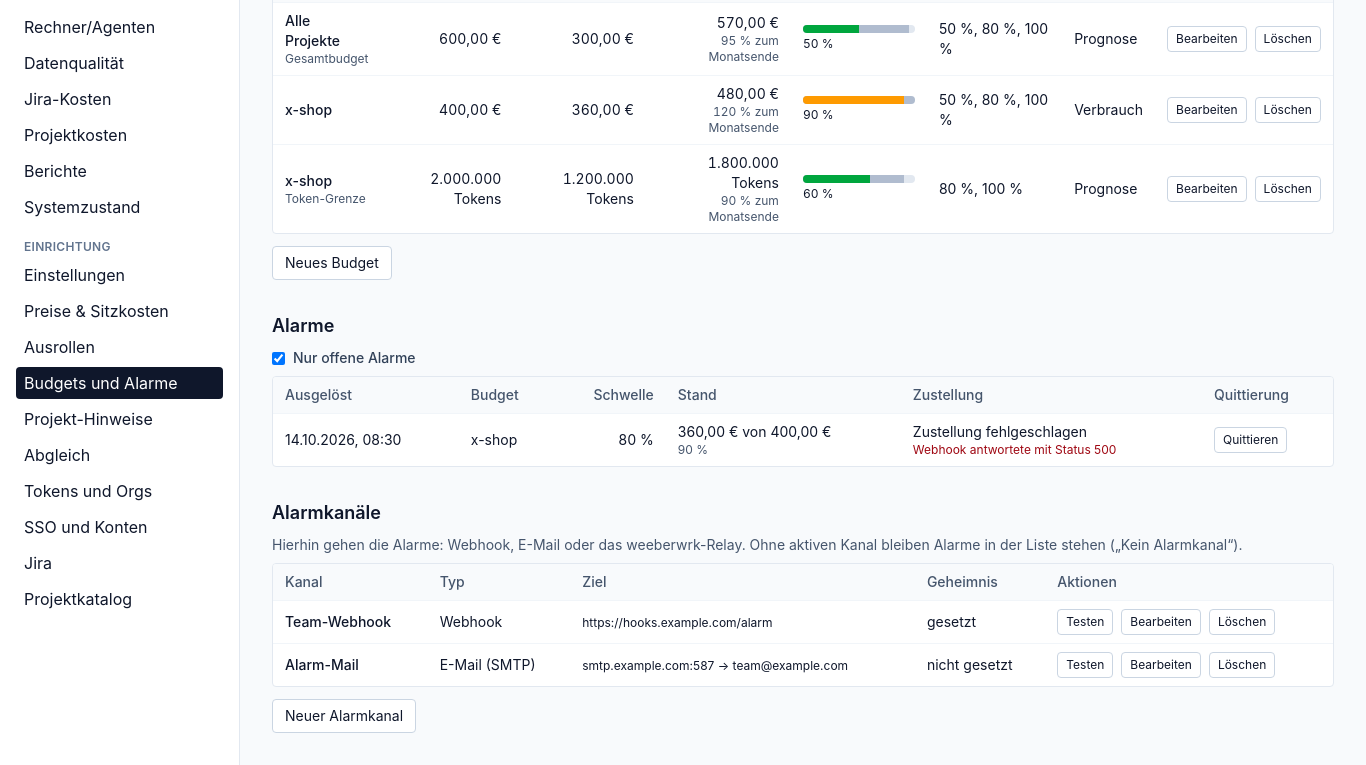
Test: Alarmkanäle › löscht einen Kanal nach Bestätigung
(page scrolled)
Click the button with aria-label "Kanal Alarm-Mail löschen": (1242, 665) [1209, 652, 1275, 678]
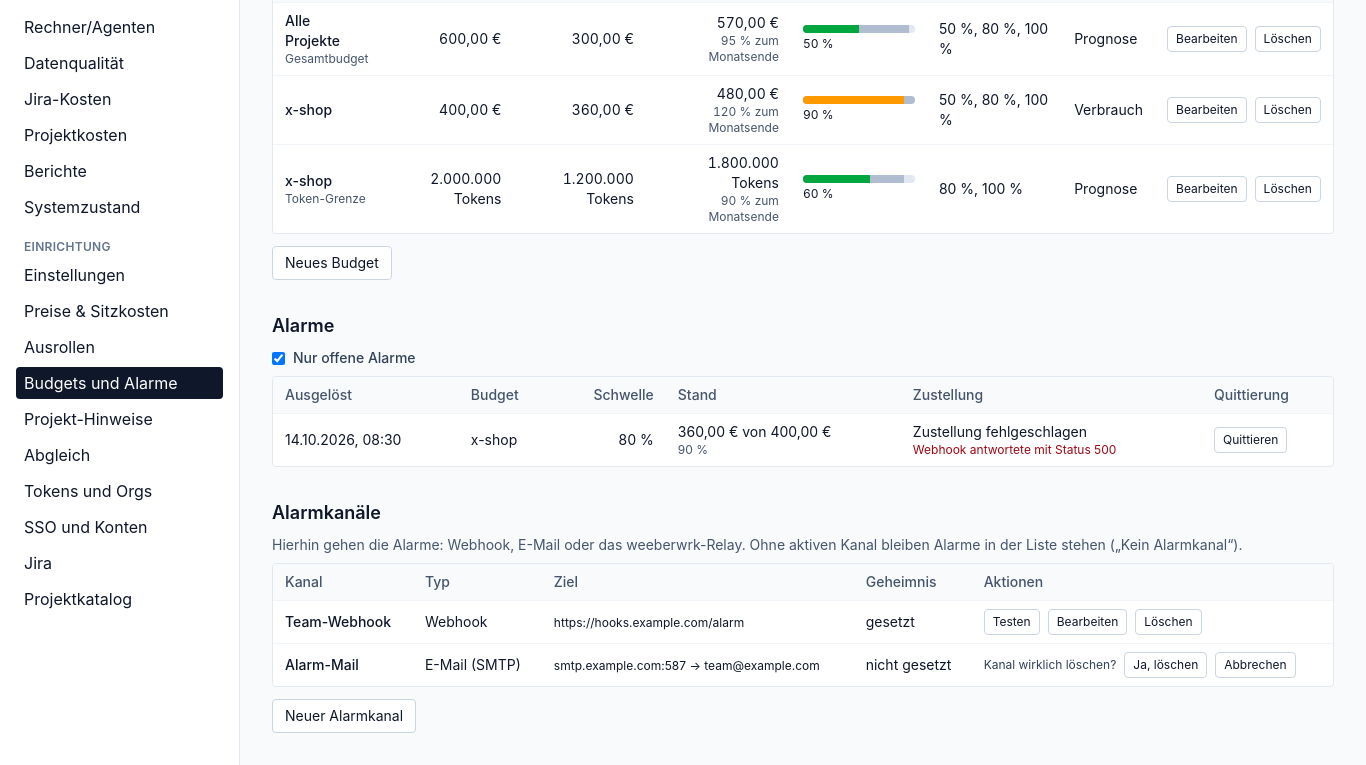
Click the button "Ja, löschen": (1166, 665) [1124, 652, 1207, 678]
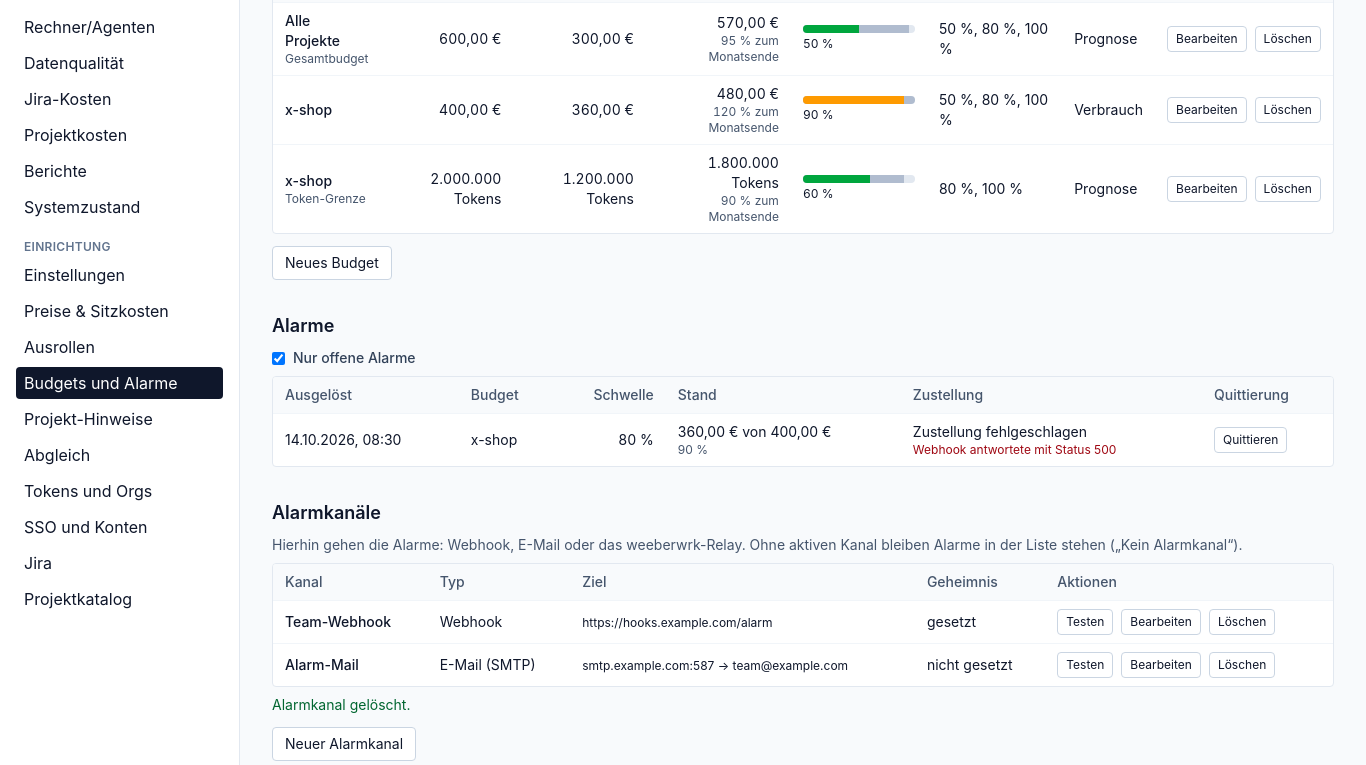
Now the text "Alarmkanal gelöscht." is shown, box [272, 696, 410, 713]
